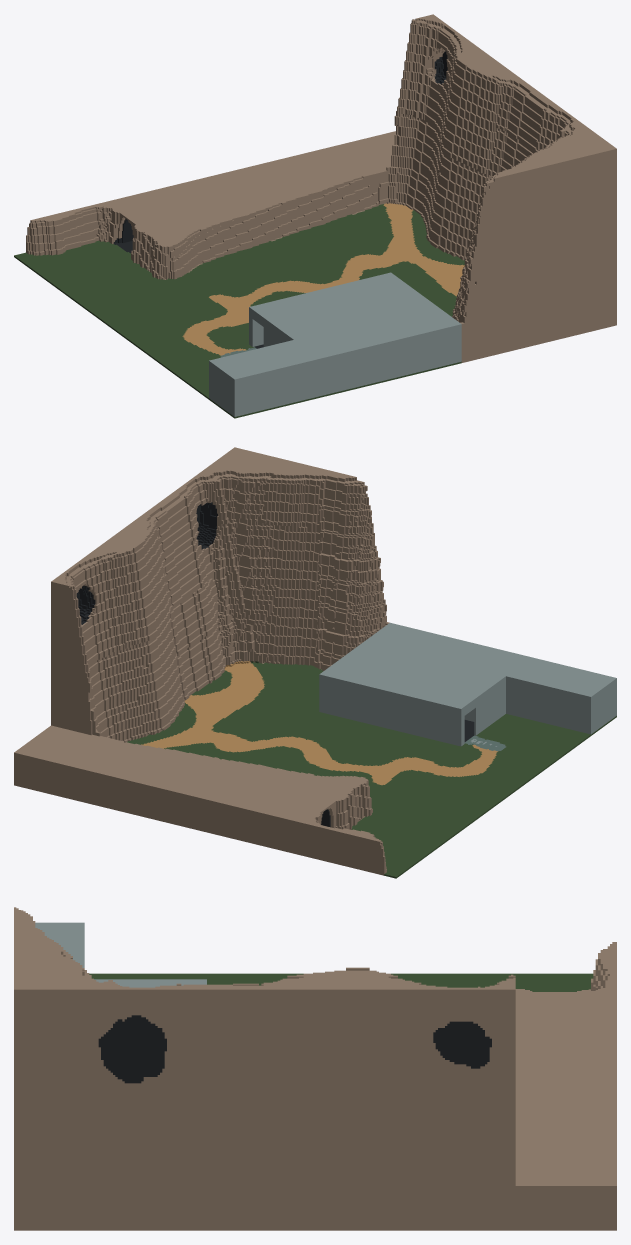
The model's file is meadow.obj.
3 views of the same model, one above another, from view 1: azimuth 30°, elevation 25°; view 2: azimuth 150°, elevation 25°; view 3: azimuth 270°, elevation 25° (orthographic). The views are drawn at different scales.
Size of the model in its own units: 25.6 by 11.4 by 25.6.
Materials: 1 (1 with a texture image).
